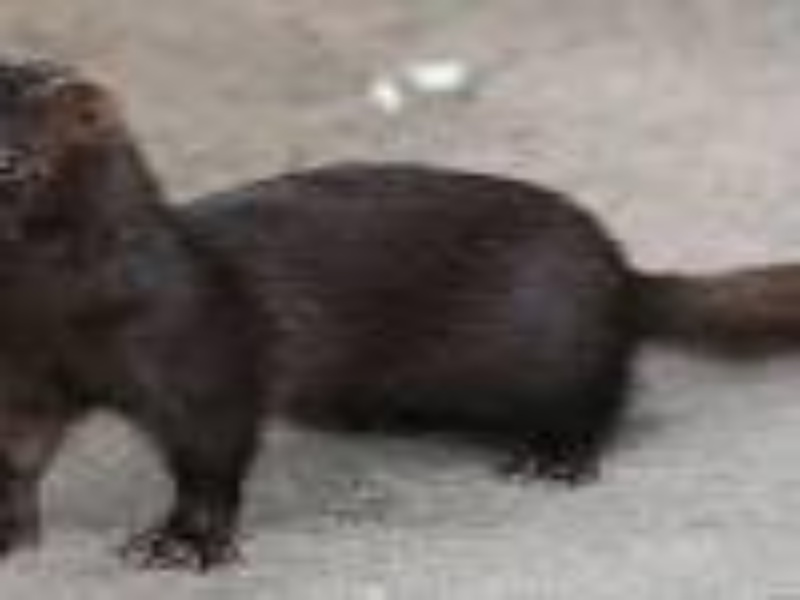minkish: (1, 50, 797, 569)
